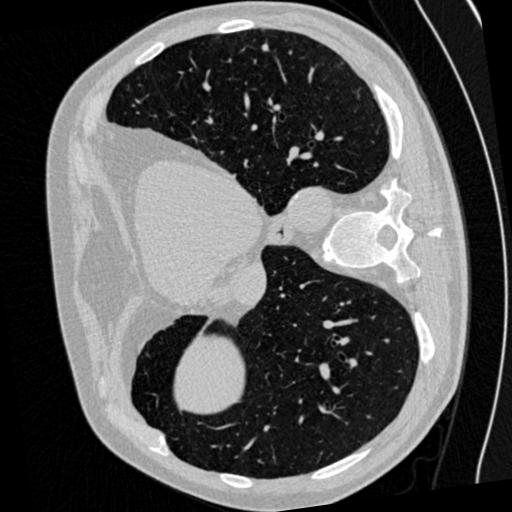nodule: (258, 41, 273, 56)
